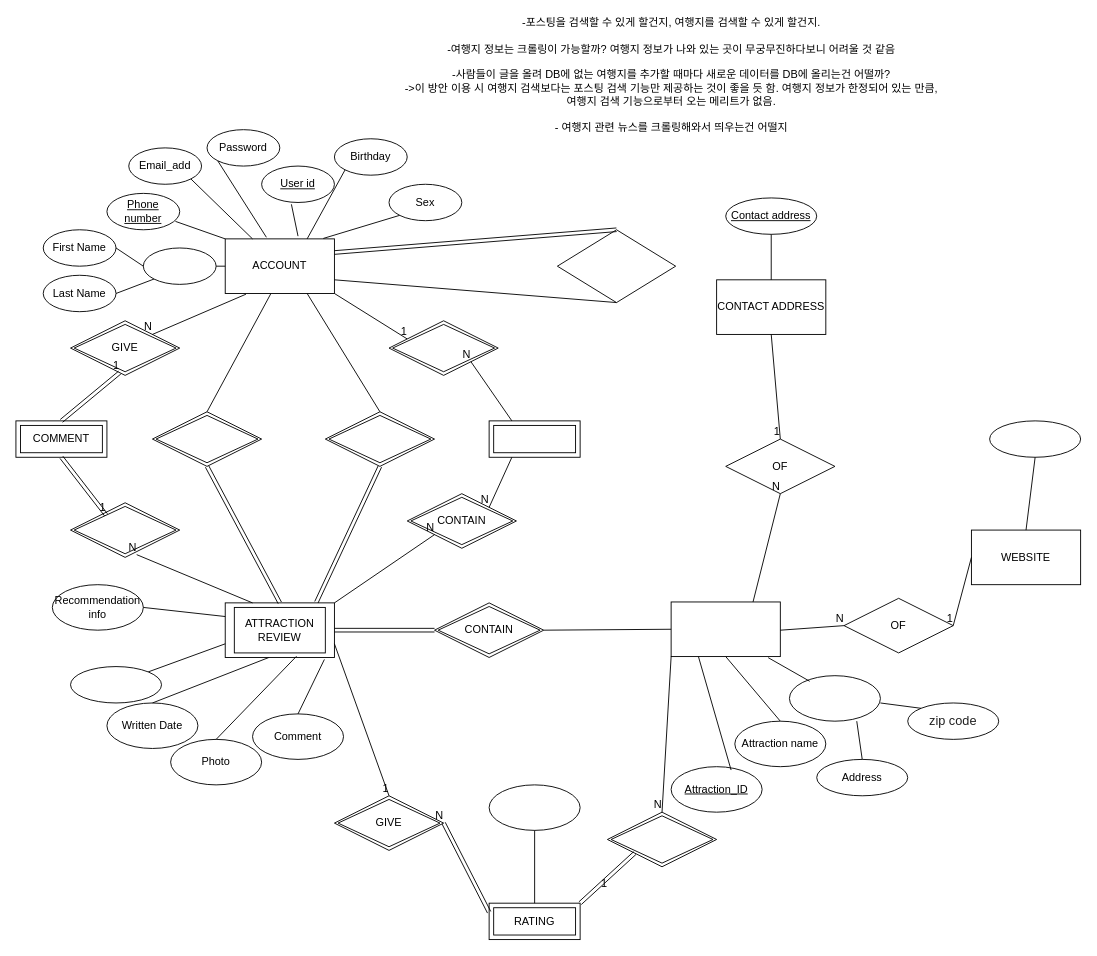
The diagram is 1097 pixels wide and 956 high, and some of its shapes have lost their labels. The shapes that lost their labels are listed below. From the top down, each one's centre as x and y in pixels, then its label:
At point (179, 265): "Name".
At point (616, 266): "SUBSCRIBE".
At point (443, 347): "SEARCH".
At point (207, 438): "RECOMMEND".
At point (379, 438): "WRITE".
At point (534, 438): "HASH TAG".
At point (1035, 438): "Website address".
At point (125, 529): "GET".
At point (725, 629): "ATTRACTION".
At point (116, 684): "Review_no".
At point (834, 698): "location".
At point (534, 807): "Rateing".
At point (662, 839): "EVALUATE".
